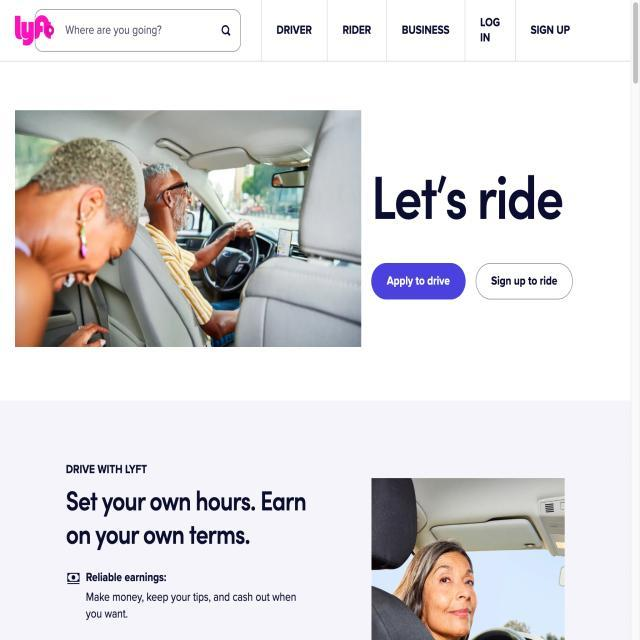button: (373, 256, 465, 301), (472, 264, 584, 300), (327, 3, 386, 65), (398, 0, 454, 65), (266, 0, 320, 65), (534, 5, 590, 64), (470, 6, 522, 61)
image: (7, 102, 371, 350)
input field: (26, 5, 259, 60)
